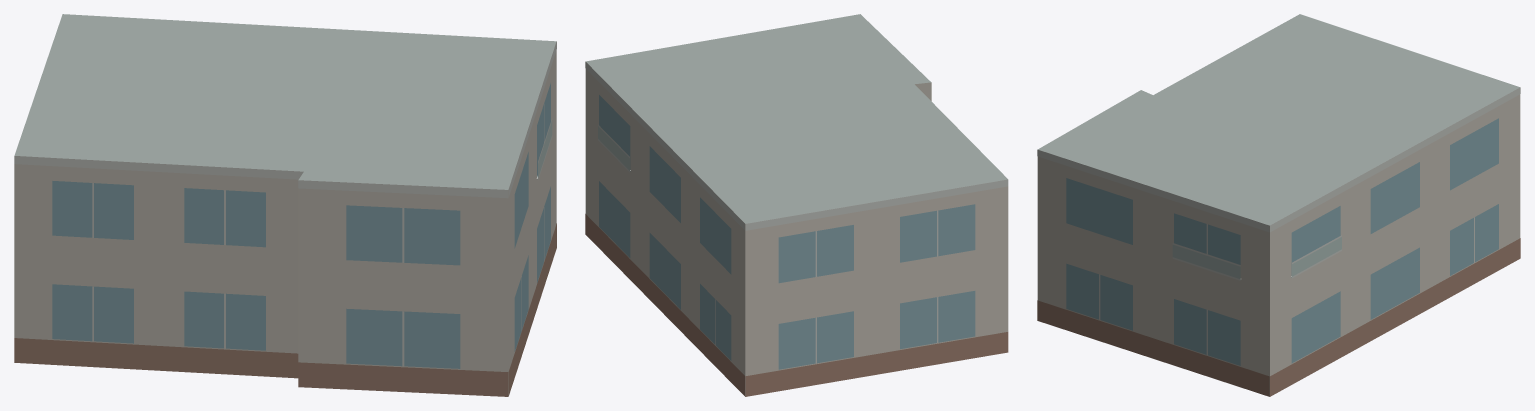
The model's file is survey-upis-32850861.glb.
The picture shows the model from 3 angles, left to right: view 1: azimuth 30°, elevation 25°; view 2: azimuth 150°, elevation 25°; view 3: azimuth 270°, elevation 25°; orthographic projection. The views are drawn at different scales.
Parts seen in each view (by area): view 1: survey-upis-32850861.tmp; view 2: survey-upis-32850861.tmp; view 3: survey-upis-32850861.tmp.
Part boxes in pixels (left/top/right/bottom): survey-upis-32850861.tmp: left=14, top=14, right=556, bottom=396; survey-upis-32850861.tmp: left=585, top=14, right=1008, bottom=396; survey-upis-32850861.tmp: left=1037, top=14, right=1520, bottom=396.
Bounding box in the file's own units: 16.18 × 6.1 × 15.6.
